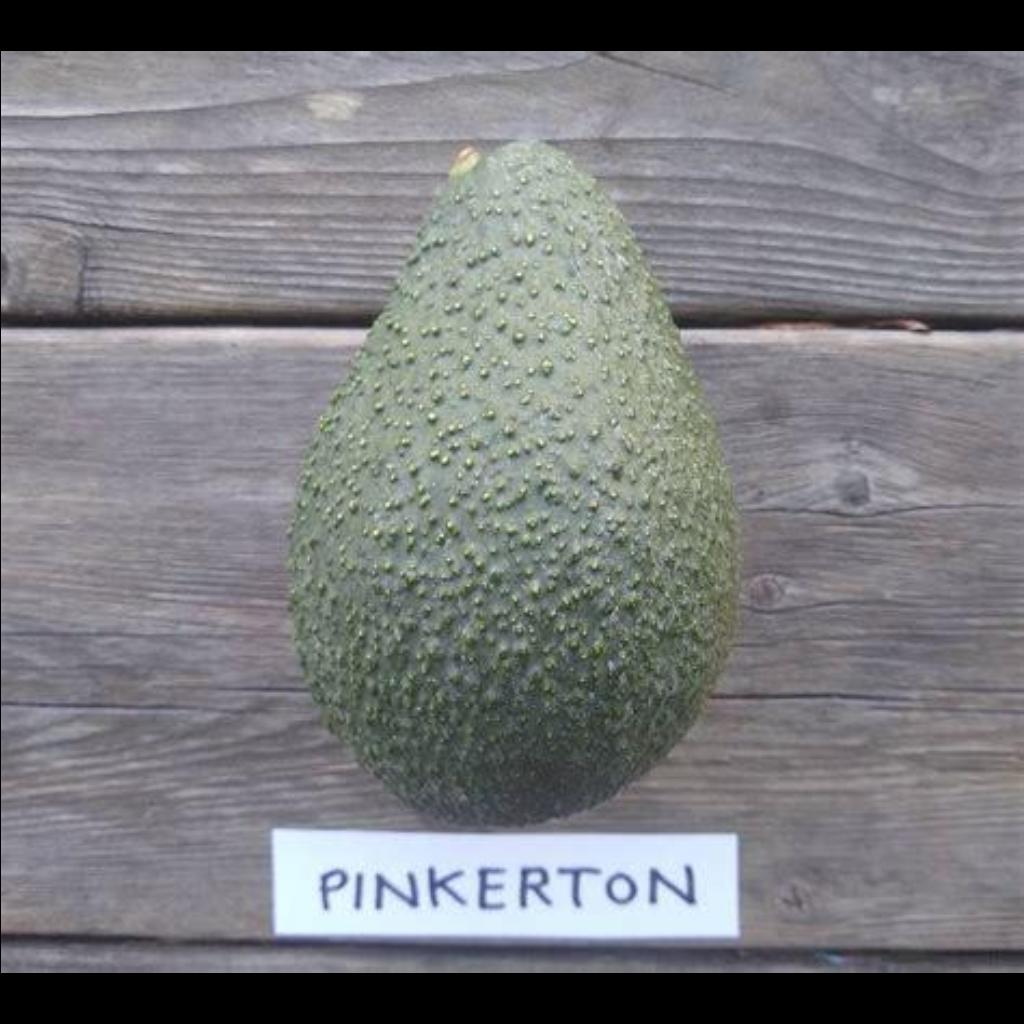fruto_sano: (302, 123, 738, 834)
